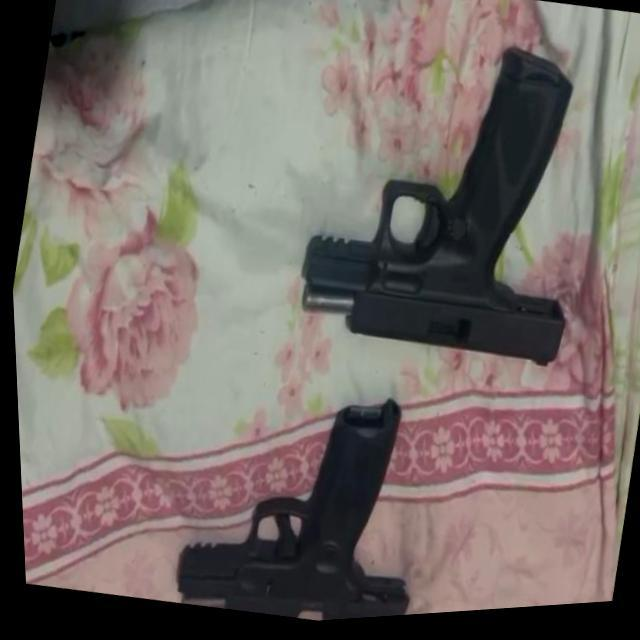gun: (276, 12, 616, 394), (158, 368, 440, 632)
